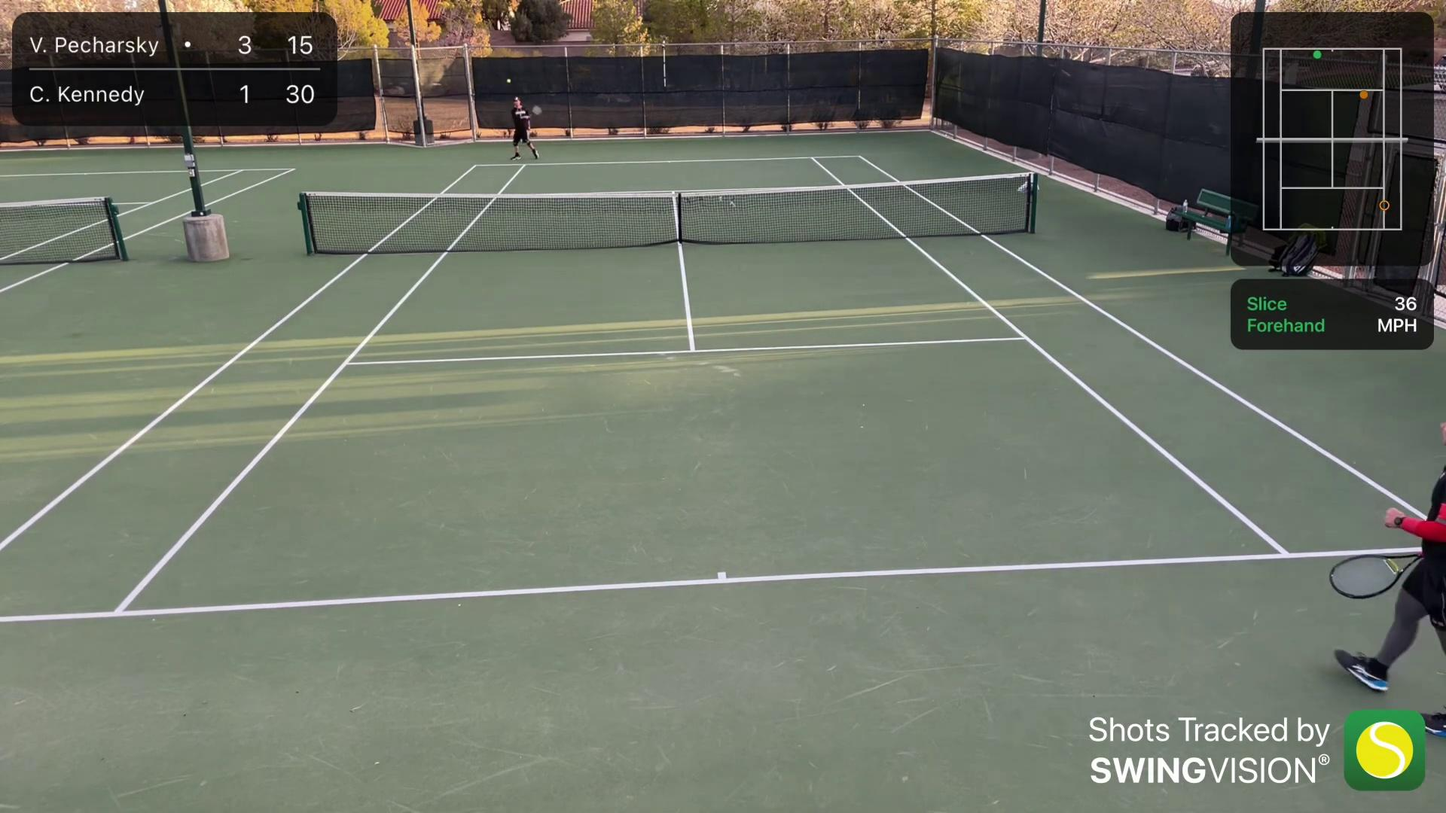ball: (506, 78, 513, 83)
